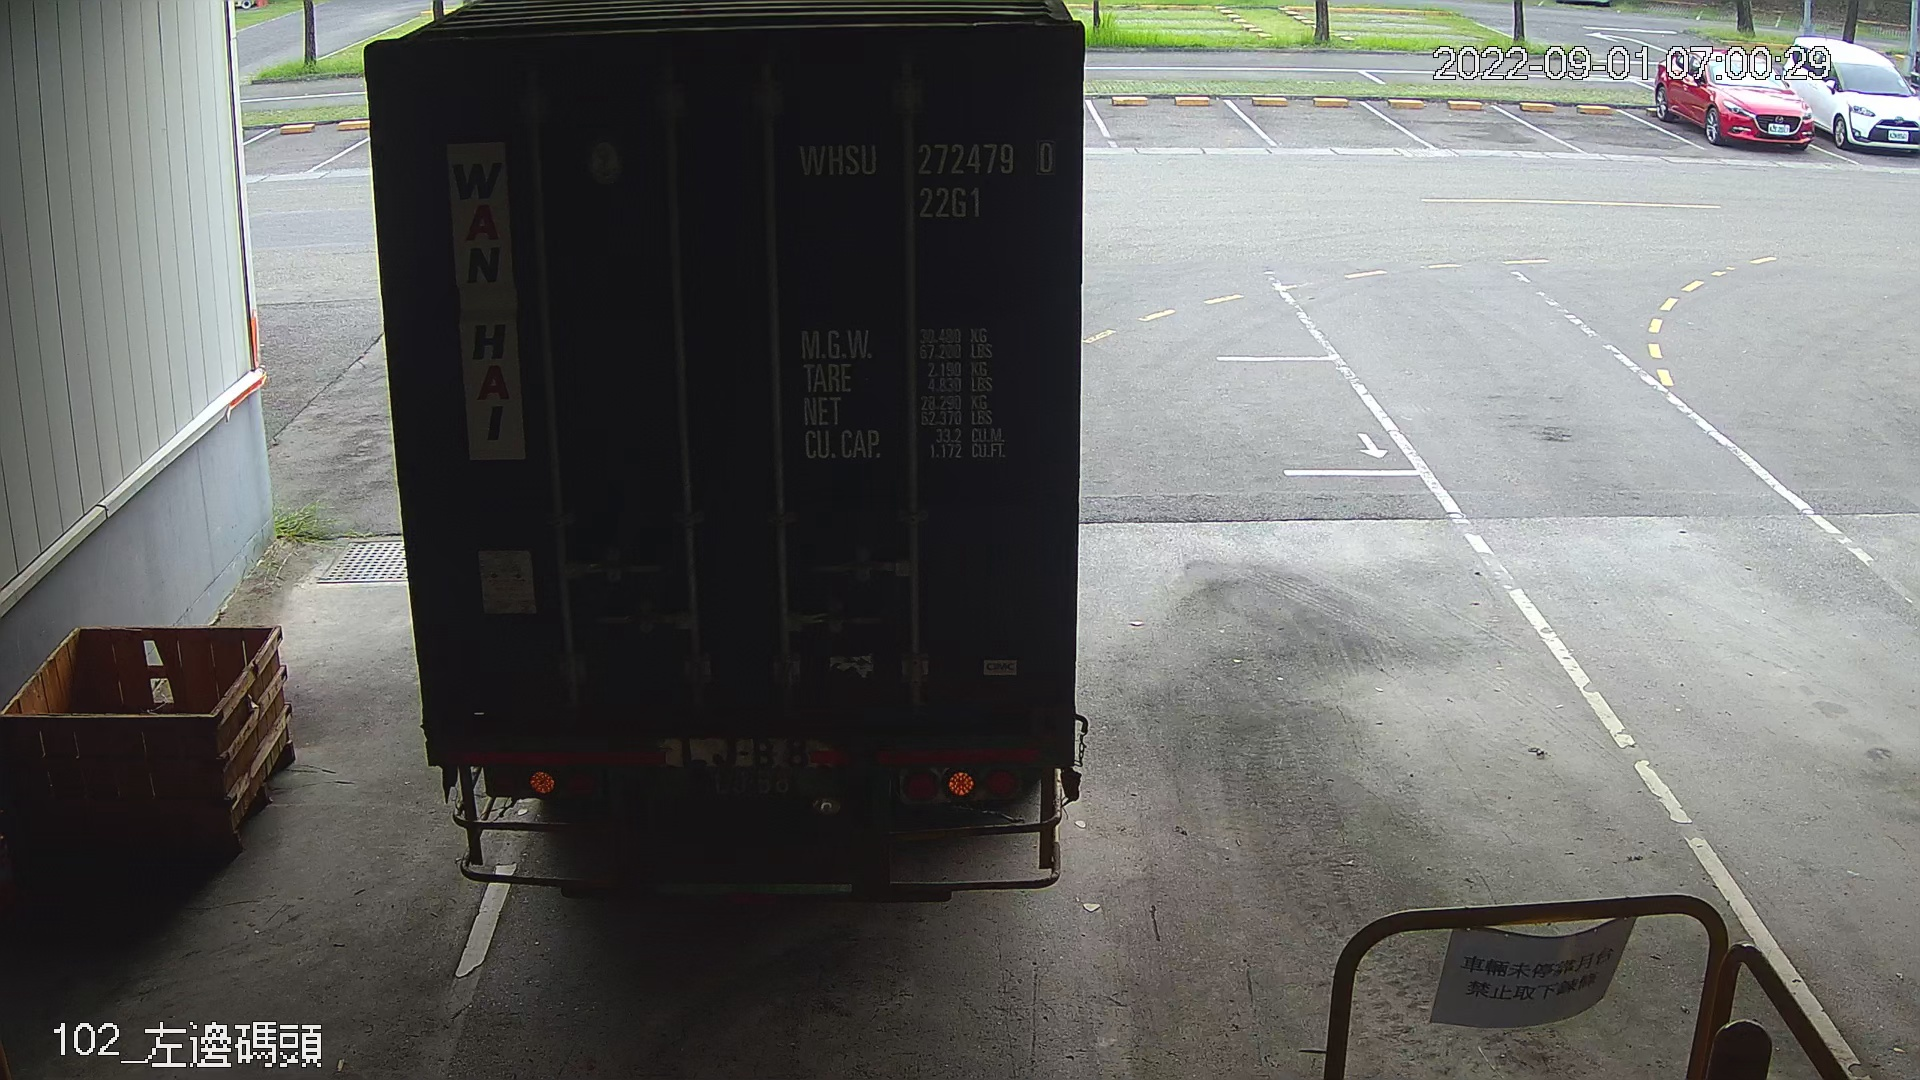container: (787, 124, 1069, 227)
